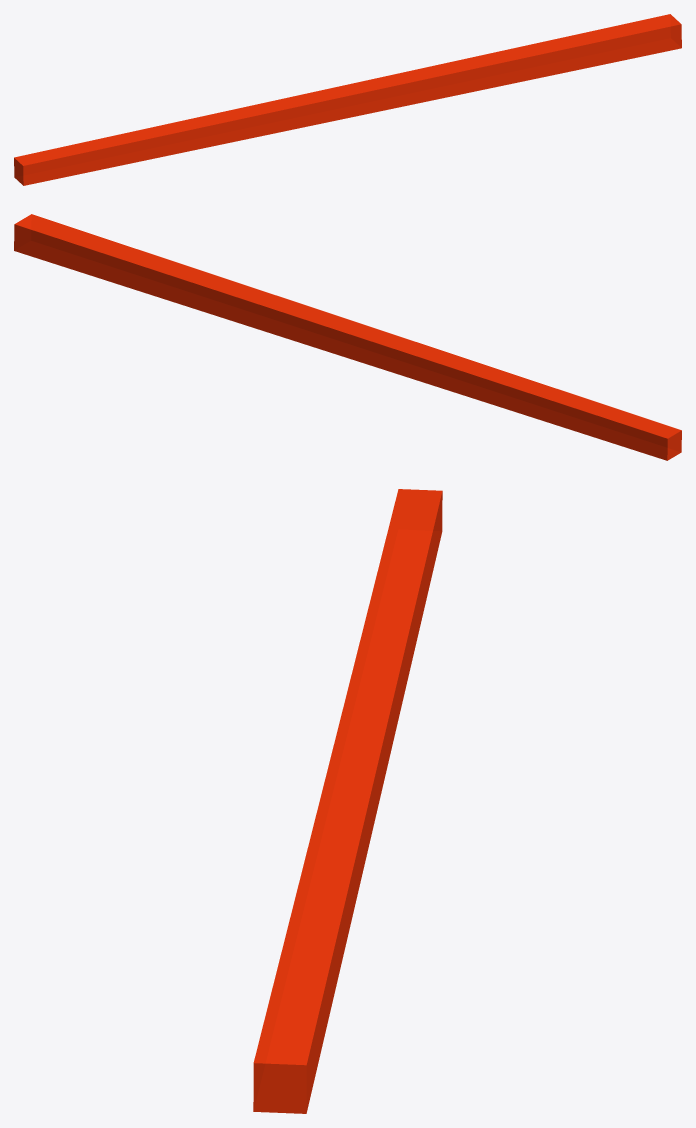
Rendered from Event_421556567_EErechit_63.fbx.
3 views of the same model, one above another, from view 1: azimuth 30°, elevation 25°; view 2: azimuth 150°, elevation 25°; view 3: azimuth 270°, elevation 25° (orthographic). The views are drawn at different scales.
Visible parts, largest first — view 1: Model; view 2: Model; view 3: Model.
Part boxes in pixels (box(x1,y1,x2,y2)): Model: box(14, 14, 681, 185); Model: box(14, 214, 681, 460); Model: box(253, 489, 442, 1113).
Bounding box in the file's own units: 2.37 × 0.1324 × 0.3102.
